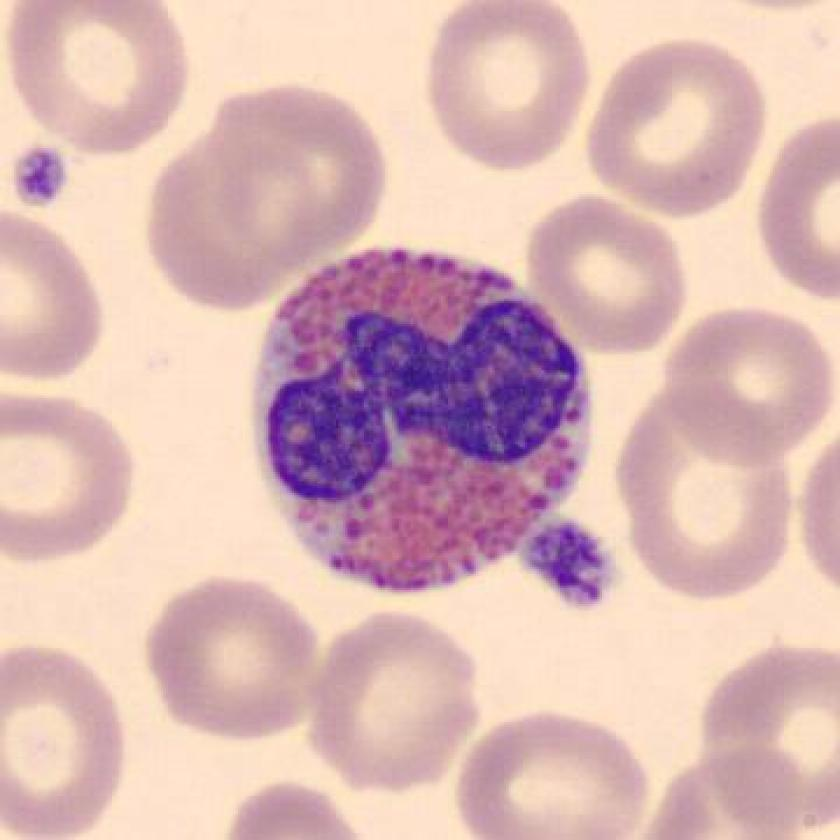eosinophil: (237, 235, 615, 605)
